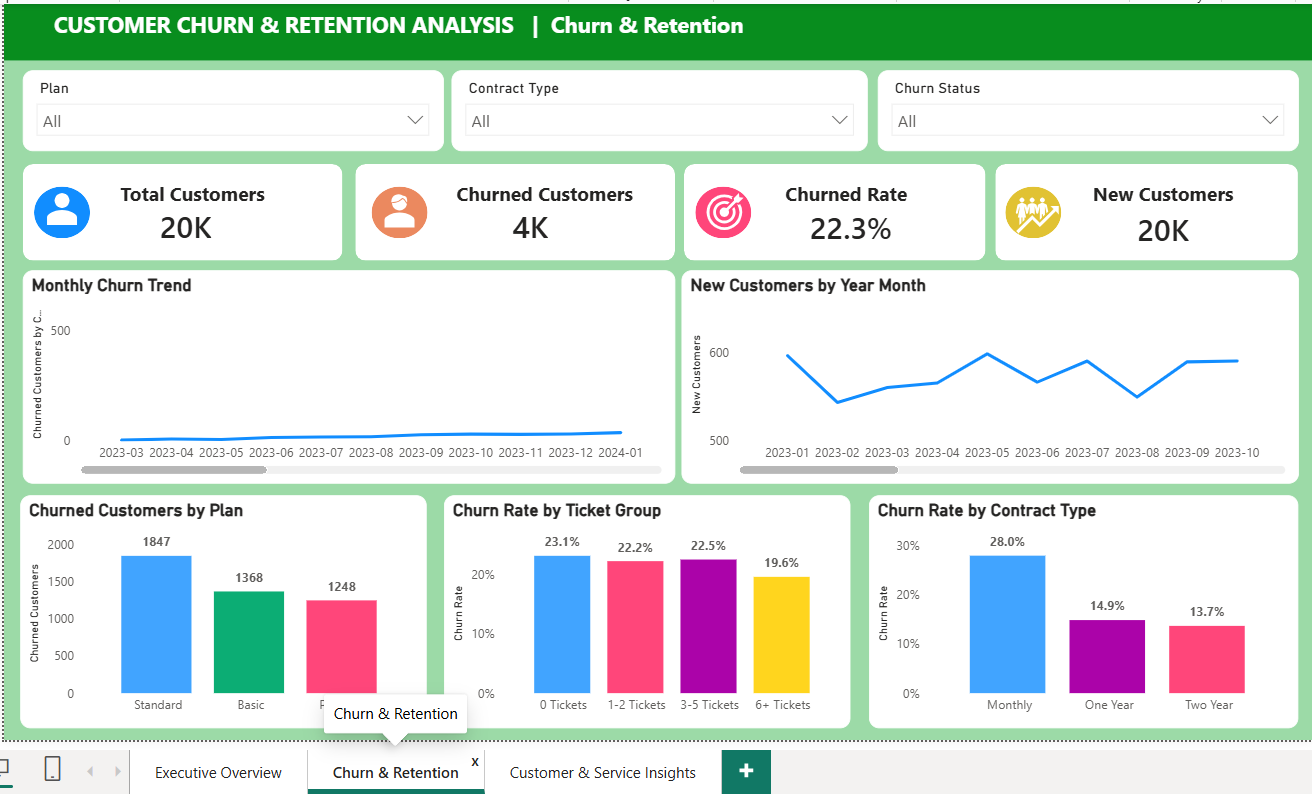

Layout of this report page (visuals, bound fields, positions):
{"tool":"powerbi","page":{"name":"Churn & Retention","canvas":[1280,720],"ordinal":1},"visuals":[{"type":"shape","box":[17.8,156.4,312.9,94.7],"z":0},{"type":"textbox","box":[0,0,1280.3,54.9],"z":1000},{"type":"cardVisual","fields":{"Data":["customers.Total Customers"]},"box":[123.5,181.1,129,70],"z":2000},{"type":"lineChart","title":"Monthly Churn Trend","fields":{"Category":["Churn Date.Year Month"],"Y":["subscriptions.Churned Customers by Churn Date"]},"box":[17.8,260.7,638.1,208.6],"z":3000},{"type":"lineChart","fields":{"Y":["customers.New Customers"],"Category":["Date.Year Month"]},"box":[662.8,260.7,603.8,208.6],"z":4000},{"type":"clusteredColumnChart","title":"Churned Customers by Plan","fields":{"Category":["subscriptions.plan"],"Y":["subscriptions.Churned Customers"]},"box":[16.5,480.3,397.9,227.8],"z":5000},{"type":"clusteredColumnChart","title":"Churn Rate by Contract Type","fields":{"Category":["subscriptions.contract_type"],"Y":["subscriptions.Churn Rate"]},"box":[846.7,480.3,419.9,227.8],"z":6000},{"type":"clusteredColumnChart","fields":{"Y":["subscriptions.Churn Rate"],"Category":["customers.Ticket Group"]},"box":[430.9,480.3,397.9,227.8],"z":7000},{"type":"slicer","fields":{"Values":["subscriptions.plan"]},"box":[17.8,64.5,411.7,79.6],"z":8000},{"type":"slicer","fields":{"Values":["subscriptions.contract_type"]},"box":[437.7,64.5,407.5,79.6],"z":9000},{"type":"slicer","fields":{"Values":["subscriptions.churn_status"]},"box":[854.9,64.5,411.7,79.6],"z":10000},{"type":"shape","box":[343.1,156.4,312.9,94.7],"z":11000},{"type":"shape","box":[665.5,156.4,295,94.7],"z":12000},{"type":"shape","box":[970.2,156.4,296.4,94.7],"z":13000},{"type":"shape","box":[28.8,178.4,54.9,50.8],"z":14000},{"type":"shape","box":[359.5,178.4,54.9,50.8],"z":15000},{"type":"shape","box":[979.8,178.4,54.9,50.8],"z":16000},{"type":"shape","box":[676.5,178.4,54.9,50.8],"z":17000},{"type":"textbox","box":[108.4,167.4,183.9,46.7],"z":18000},{"type":"textbox","box":[437.7,167.4,204.5,46.7],"z":19000},{"type":"textbox","box":[758.8,167.4,201.7,46.7],"z":20000},{"type":"textbox","box":[1060.7,167.4,190.7,61.7],"z":21000},{"type":"cardVisual","fields":{"Data":["subscriptions.Churned Customers"]},"box":[467.9,181.1,129,70],"z":22000},{"type":"cardVisual","fields":{"Data":["subscriptions.Churn Rate"]},"box":[758.8,182.5,140,70],"z":23000},{"type":"cardVisual","fields":{"Data":["customers.New Customers"]},"box":[1079.9,183.9,129,70],"z":24000},{"type":"image","box":[19.2,178.4,74.1,43.9],"z":24001},{"type":"image","box":[349.9,181.1,74.1,43.9],"z":24002},{"type":"image","box":[676.5,181.1,59,43.9],"z":24003},{"type":"image","box":[986.6,160.5,48,90.6],"z":24004}]}

Visuals, with their boxes on the page's 1280x720 design canvas (x1, y1, x2, y2). These are canvas units, not pixel positions in the 1312x794 screenshot, which may show the page scaled, cropped or inside an application window:
shape: (18, 156, 331, 251)
textbox: (0, 0, 1280, 55)
cardVisual - customers.Total Customers: (124, 181, 252, 251)
"Monthly Churn Trend" lineChart: (18, 261, 656, 469)
lineChart - customers.New Customers x Date.Year Month: (663, 261, 1267, 469)
"Churned Customers by Plan" clusteredColumnChart: (16, 480, 414, 708)
"Churn Rate by Contract Type" clusteredColumnChart: (847, 480, 1267, 708)
clusteredColumnChart - subscriptions.Churn Rate x customers.Ticket Group: (431, 480, 829, 708)
slicer - subscriptions.plan: (18, 64, 430, 144)
slicer - subscriptions.contract_type: (438, 64, 845, 144)
slicer - subscriptions.churn_status: (855, 64, 1267, 144)
shape: (343, 156, 656, 251)
shape: (666, 156, 960, 251)
shape: (970, 156, 1267, 251)
shape: (29, 178, 84, 229)
shape: (360, 178, 414, 229)
shape: (980, 178, 1035, 229)
shape: (676, 178, 731, 229)
textbox: (108, 167, 292, 214)
textbox: (438, 167, 642, 214)
textbox: (759, 167, 960, 214)
textbox: (1061, 167, 1251, 229)
cardVisual - subscriptions.Churned Customers: (468, 181, 597, 251)
cardVisual - subscriptions.Churn Rate: (759, 182, 899, 252)
cardVisual - customers.New Customers: (1080, 184, 1209, 254)
image: (19, 178, 93, 222)
image: (350, 181, 424, 225)
image: (676, 181, 736, 225)
image: (987, 160, 1035, 251)
